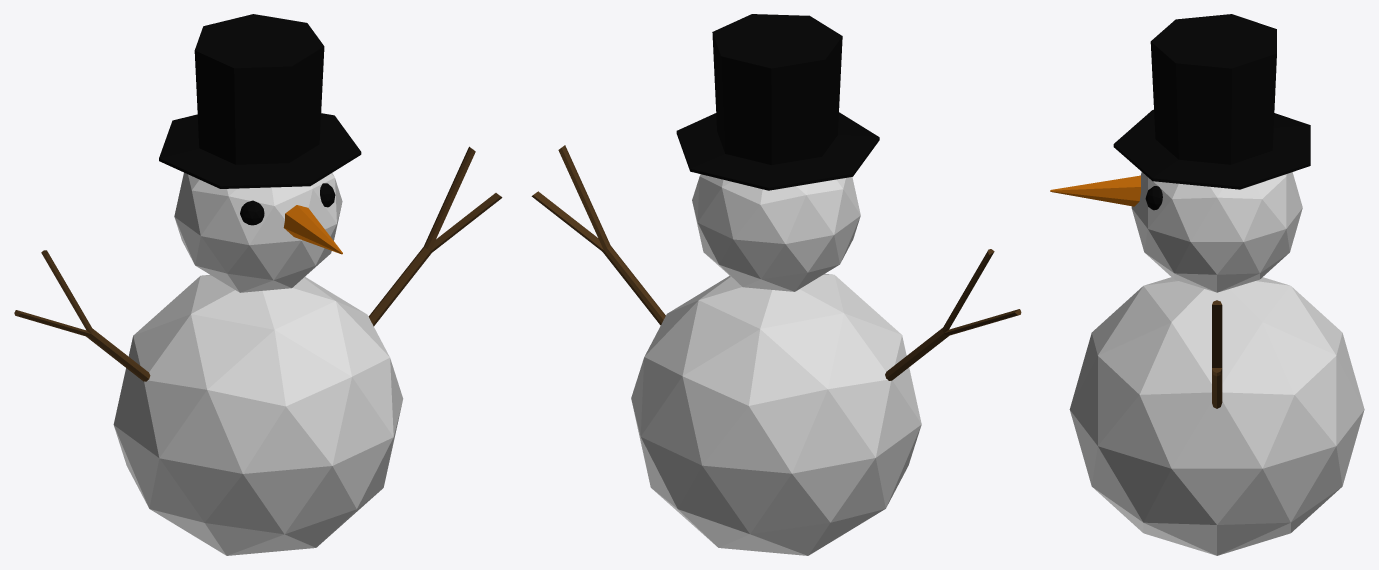
Rendered from snowman.fbx.
The picture shows the model from 3 angles, left to right: view 1: azimuth 30°, elevation 25°; view 2: azimuth 150°, elevation 25°; view 3: azimuth 270°, elevation 25°; orthographic projection.
Parts seen in each view (by area): view 1: Bobby; view 2: Bobby; view 3: Bobby.
Part boxes in pixels (x1,y1,x2,y2): Bobby: [14, 14, 502, 555]; Bobby: [531, 14, 1021, 555]; Bobby: [1050, 14, 1364, 555].
Size of the model in its own units: 194 by 109 by 192.
